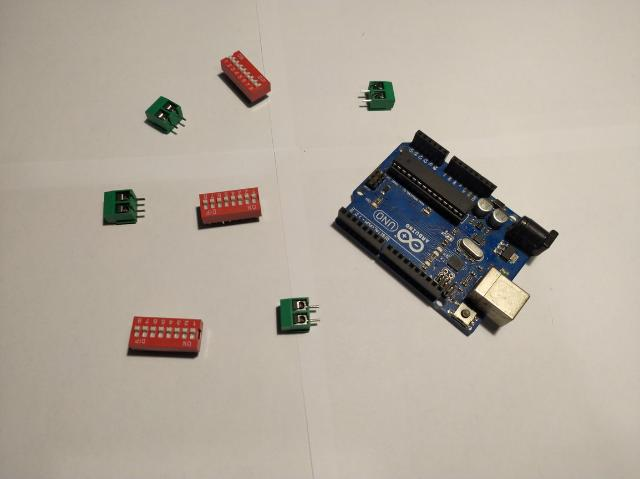arduino: (334, 129, 558, 337)
dip_switch: (128, 316, 204, 356), (220, 50, 270, 104), (199, 187, 261, 225)
terminal_block: (104, 189, 146, 227), (146, 96, 187, 134), (280, 297, 320, 331), (362, 77, 396, 112)
